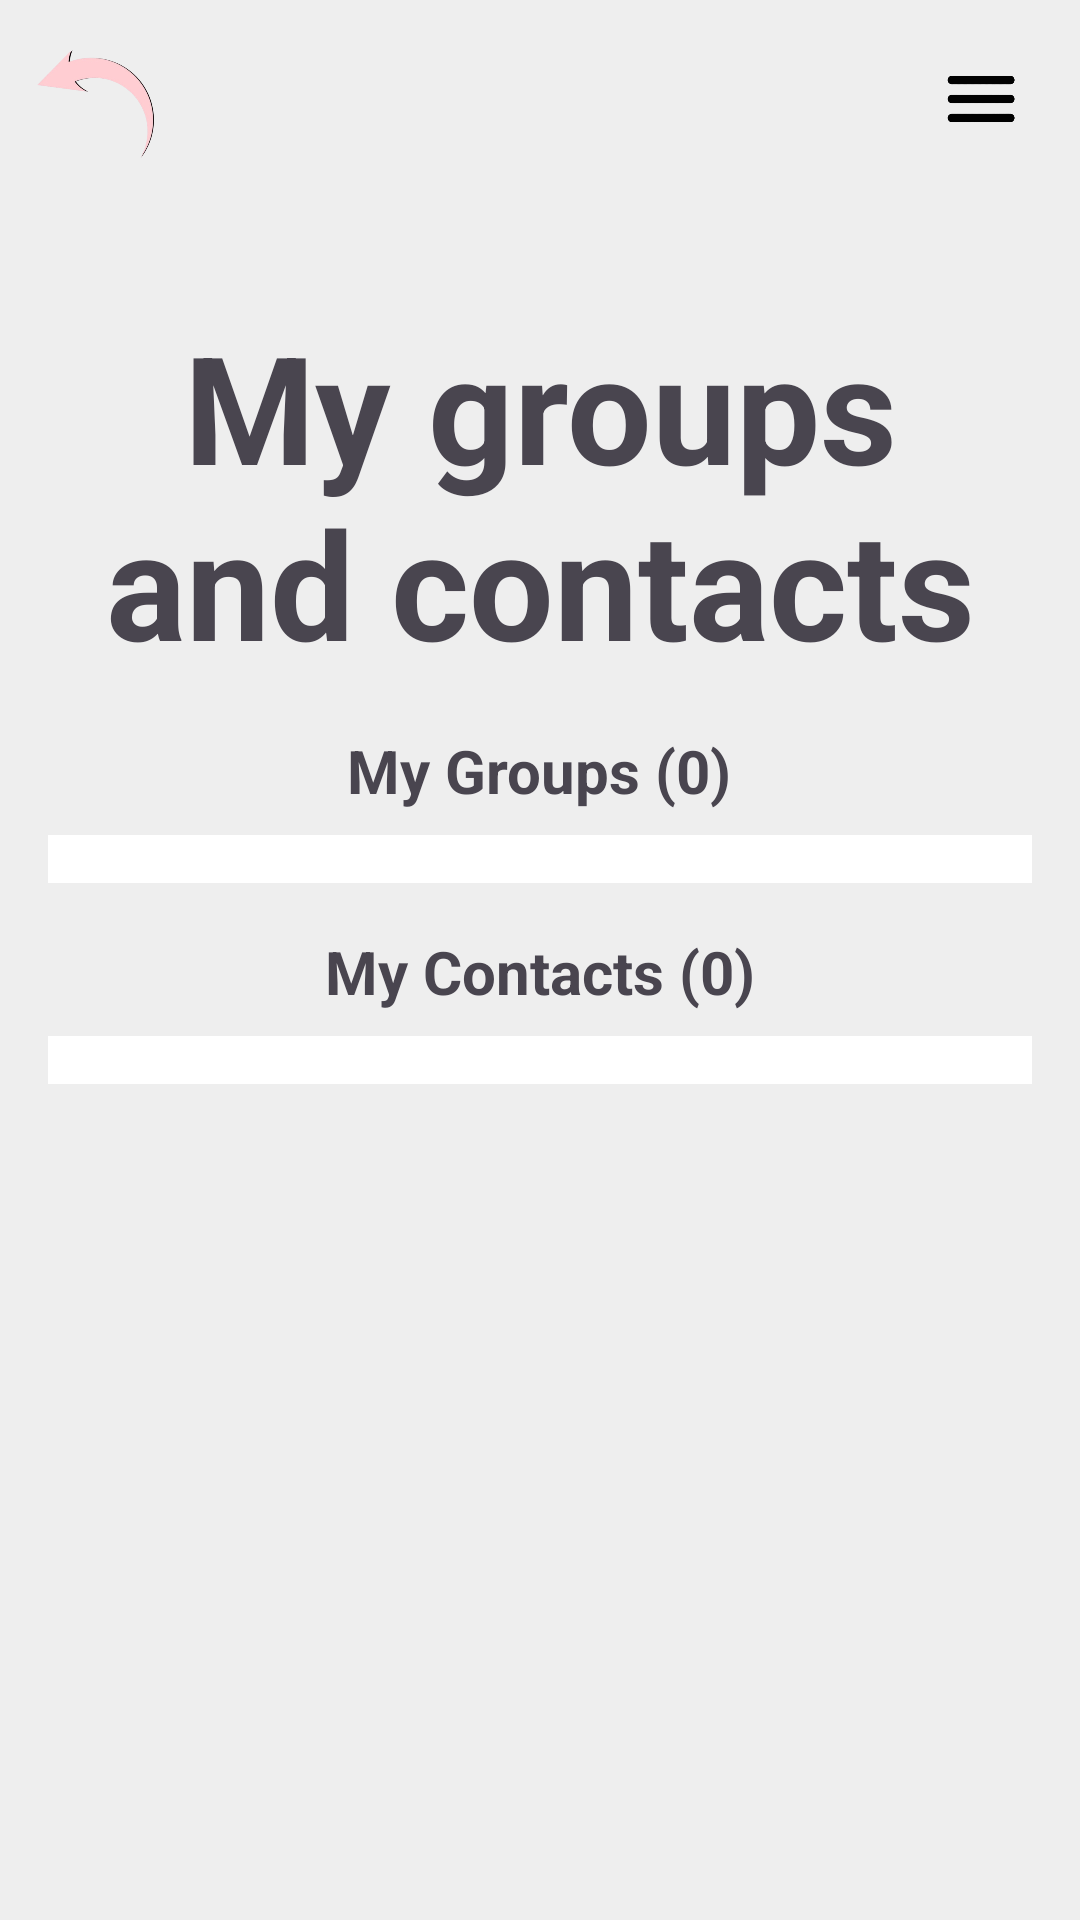

Where icons sit on this 1080px x 1920px app screen, as (x1, y1, x2, y2):
Back Button: (38, 50, 154, 157)
Menu Button: (947, 76, 1015, 122)
